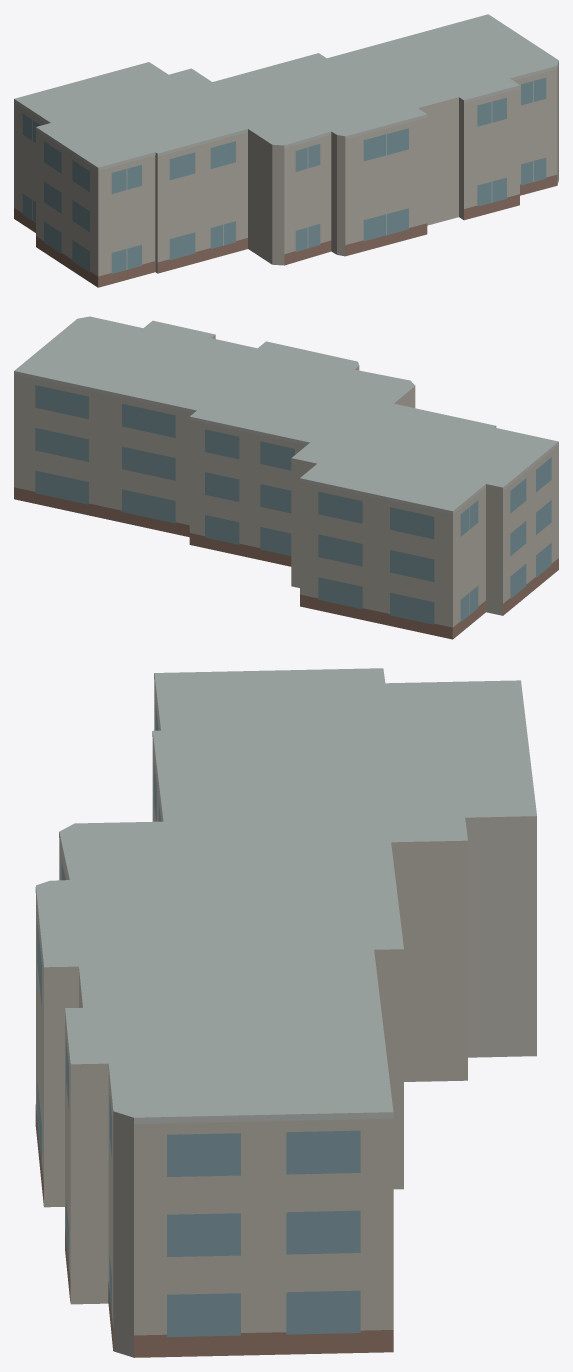
The model's file is survey-upis-32915282.glb.
3 renders of one model, top to bottom at view 1: azimuth 30°, elevation 25°; view 2: azimuth 150°, elevation 25°; view 3: azimuth 270°, elevation 25°, orthographic. The views are drawn at different scales.
Visible parts, largest first — view 1: survey-upis-32915282.tmp; view 2: survey-upis-32915282.tmp; view 3: survey-upis-32915282.tmp.
Part boxes in pixels (left/top/right/bottom): survey-upis-32915282.tmp: left=14, top=14, right=558, bottom=287; survey-upis-32915282.tmp: left=14, top=316, right=558, bottom=639; survey-upis-32915282.tmp: left=35, top=668, right=536, bottom=1357.
Bounding box in the file's own units: 36.76 × 9.15 × 17.33.
